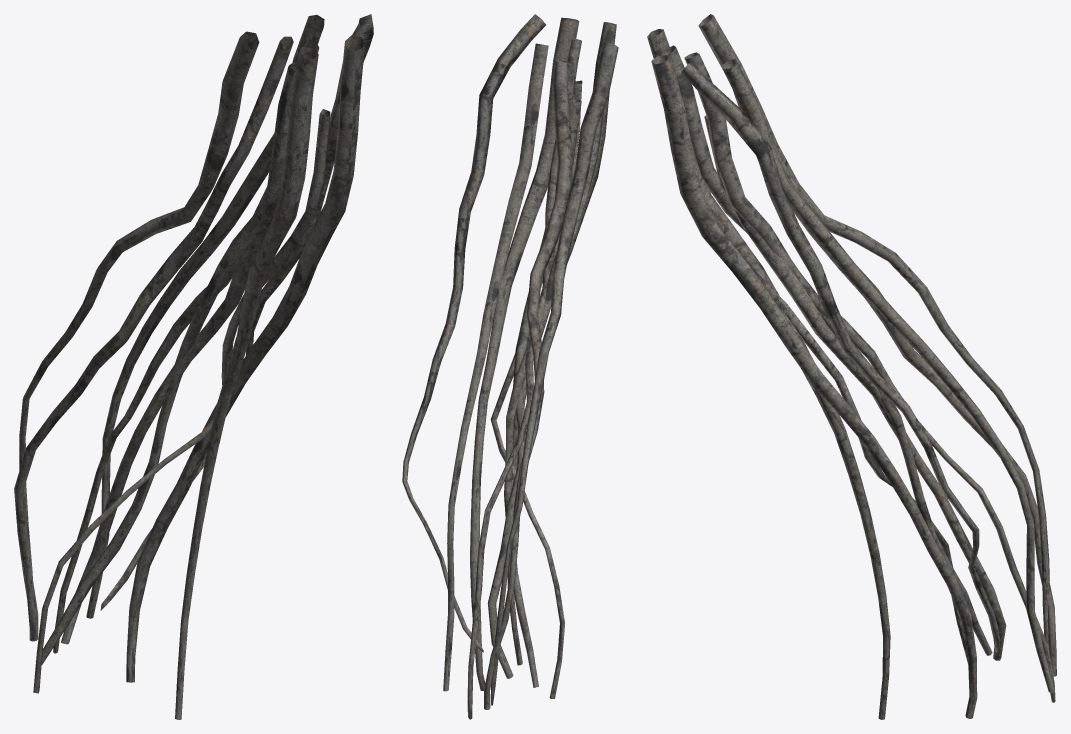
File: tree02_01.fbx
The picture shows the model from 3 angles, left to right: view 1: azimuth 30°, elevation 25°; view 2: azimuth 150°, elevation 25°; view 3: azimuth 270°, elevation 25°; orthographic projection. The views are drawn at different scales.
Visible parts, largest first — view 1: tree02_01; view 2: tree02_01; view 3: tree02_01.
Boxes of the visible parts, box(x1,y1,x2,y2) form: tree02_01: box(14, 14, 373, 719); tree02_01: box(402, 14, 618, 719); tree02_01: box(647, 14, 1056, 719).
Bounding box in the file's own units: 587 × 1989 × 1066.
